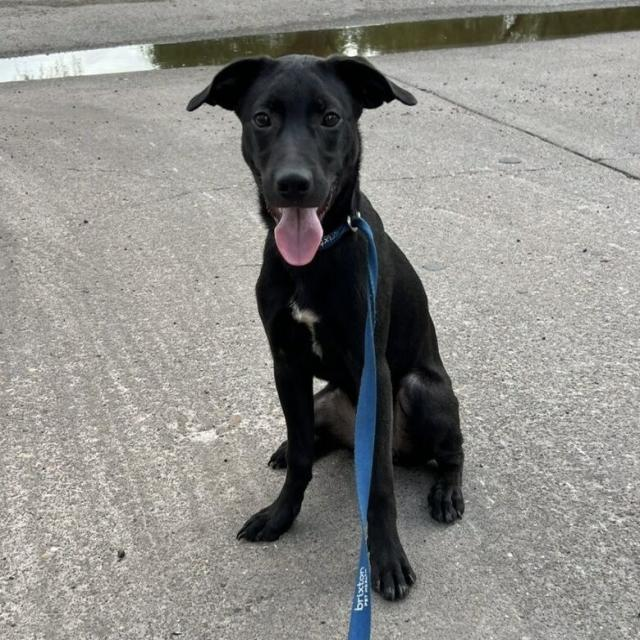labrador_retriever_dog: (180, 41, 429, 274)
